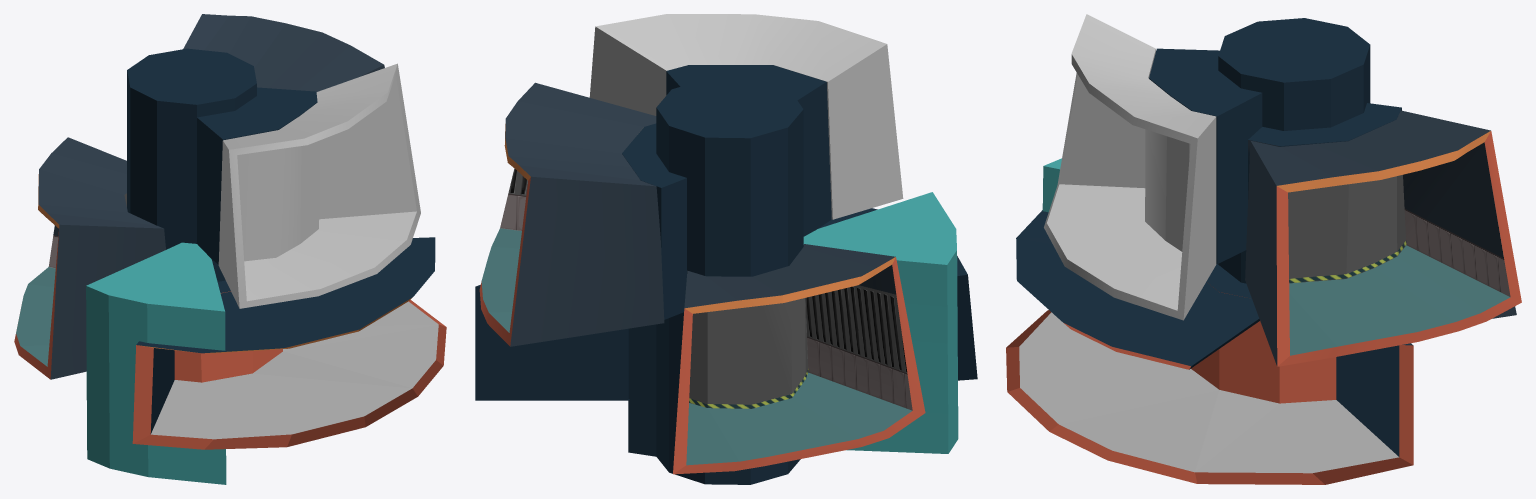
The model's file is Floor-1.FBX.
3 views of the same model, side by side, from view 1: azimuth 30°, elevation 25°; view 2: azimuth 150°, elevation 25°; view 3: azimuth 270°, elevation 25° (orthographic). The views are drawn at different scales.
Parts seen in each view (by area): view 1: Group012, Cylinder011, z005; view 2: Group012, Cylinder011, z005; view 3: Cylinder011, z005, Group012.
Part boxes in pixels (<box>): Group012: <box>14,63,420,484</box>; Cylinder011: <box>127,48,446,449</box>; z005: <box>183,14,384,91</box>; Group012: <box>589,14,958,474</box>; Cylinder011: <box>475,65,977,484</box>; z005: <box>479,82,664,346</box>; Cylinder011: <box>1006,18,1413,484</box>; z005: <box>1245,110,1521,366</box>; Group012: <box>1042,14,1516,320</box>.
Size of the model in its own units: 37.15 by 30.54 by 38.3.
